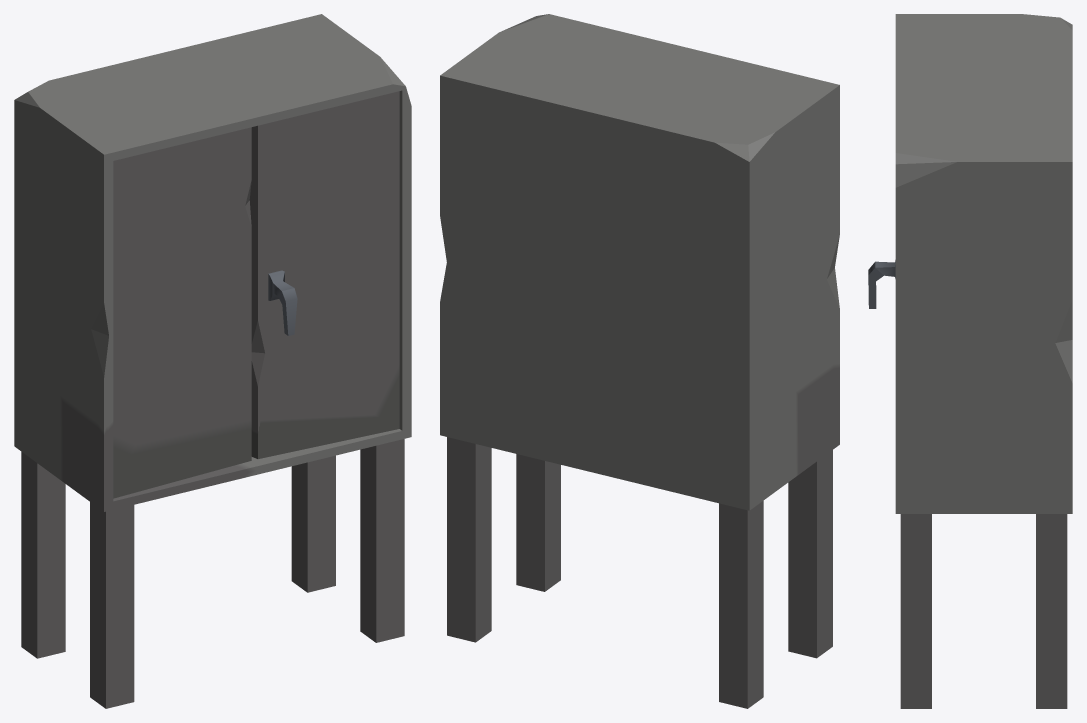
File: SM_Prop_Cabinet_Small_01.fbx
3 renders of one model, left to right at view 1: azimuth 30°, elevation 25°; view 2: azimuth 150°, elevation 25°; view 3: azimuth 270°, elevation 25°, orthographic. The views are drawn at different scales.
Visible parts, largest first — view 1: SM_Prop_Cabinet_Small_01, SM_Prop_Cabinet_Small_Door_02, SM_Prop_Cabinet_Small_Door_01; view 2: SM_Prop_Cabinet_Small_01; view 3: SM_Prop_Cabinet_Small_01, SM_Prop_Cabinet_Small_Door_02.
Part boxes in pixels (x1,y1,x2,y2): SM_Prop_Cabinet_Small_01: [14, 14, 411, 708]; SM_Prop_Cabinet_Small_Door_02: [249, 91, 399, 458]; SM_Prop_Cabinet_Small_Door_01: [113, 127, 251, 498]; SM_Prop_Cabinet_Small_01: [440, 14, 839, 708]; SM_Prop_Cabinet_Small_01: [895, 14, 1072, 708]; SM_Prop_Cabinet_Small_Door_02: [868, 260, 895, 308].
Size of the model in its own units: 105 by 182 by 61.36.
